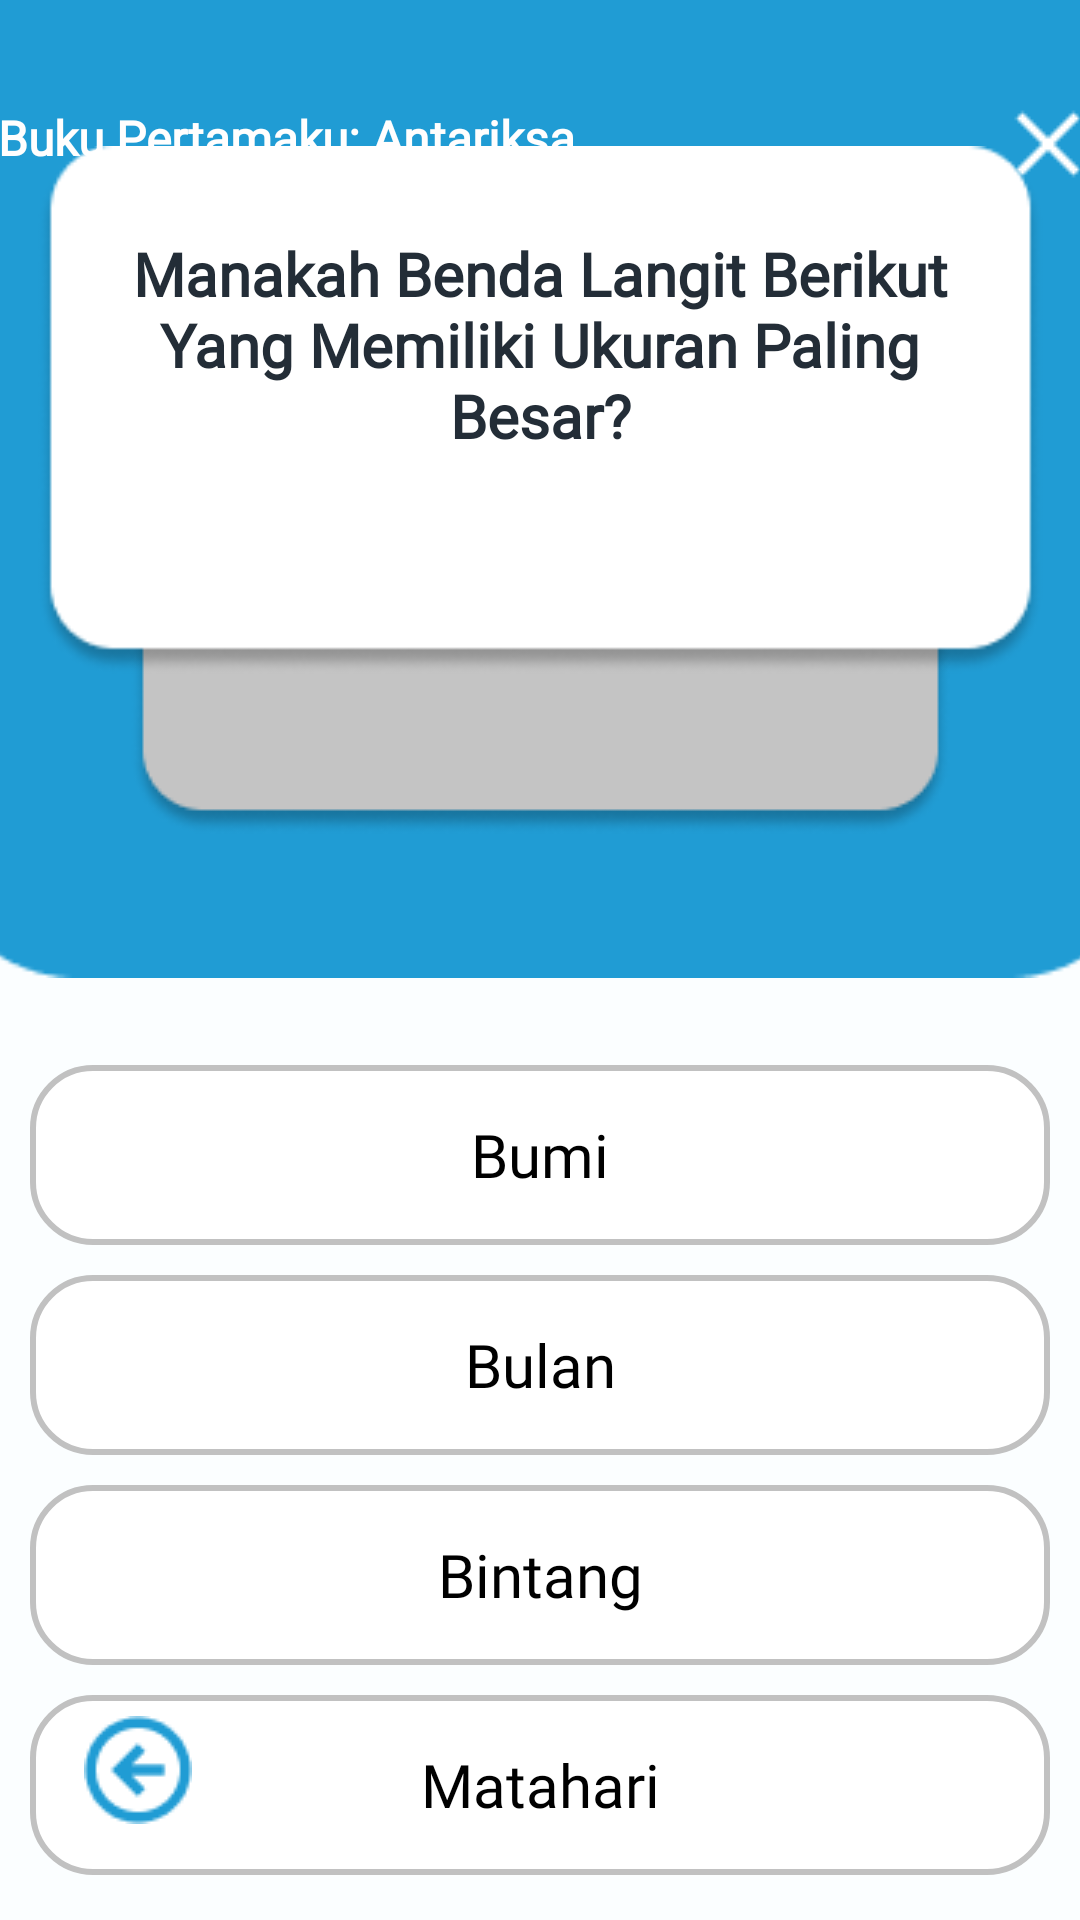

Icon bounding boxes for this 1080px×1920px phone screenshot, format (x1, y1, x2, y2):
arrow back: (84, 1716, 192, 1824)
